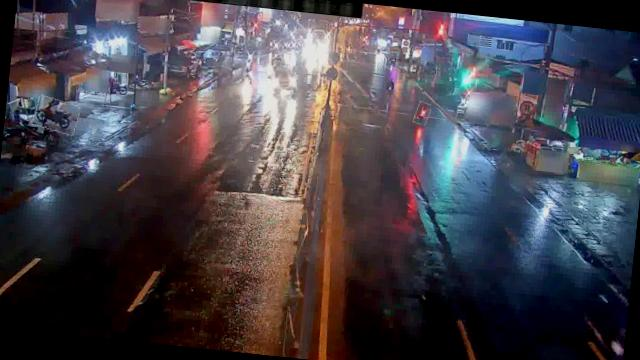Bike: (32, 97, 80, 135), (414, 102, 431, 125)
Car: (270, 64, 298, 95)
